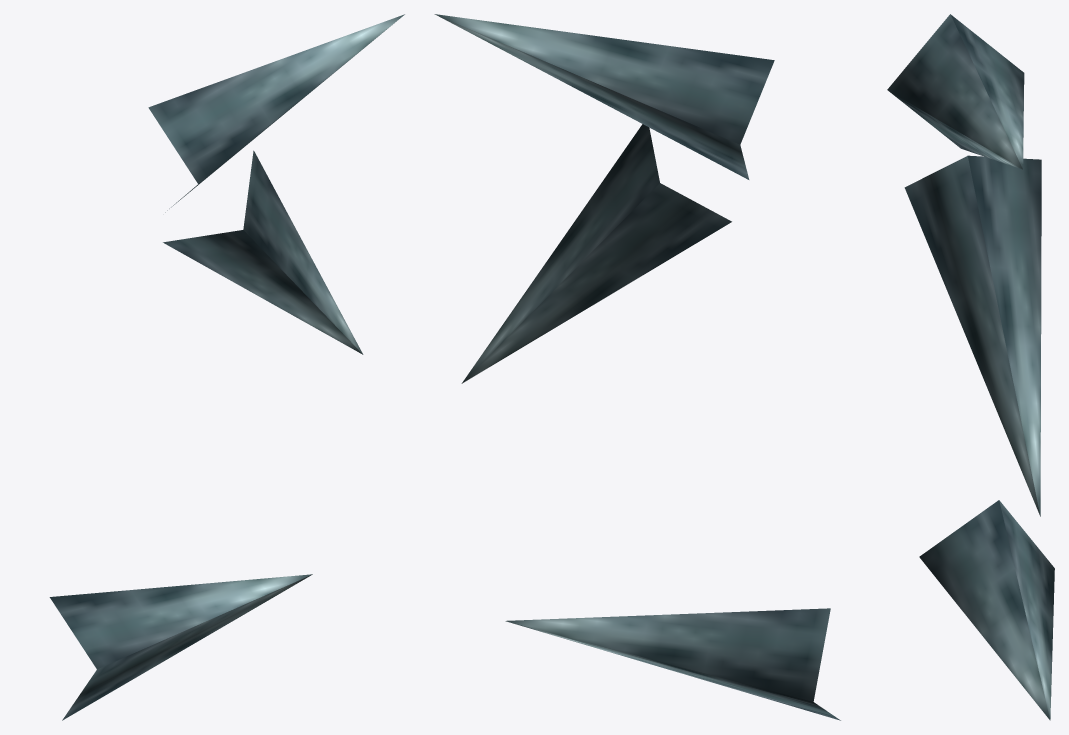
The picture shows the model from 3 angles, left to right: view 1: azimuth 30°, elevation 25°; view 2: azimuth 150°, elevation 25°; view 3: azimuth 270°, elevation 25°; orthographic projection. The views are drawn at different scales.
Parts seen in each view (by area): view 1: model_object48; view 2: model_object48; view 3: model_object48.
Part boxes in pixels (x1,y1,x2,y2): model_object48: [49, 14, 404, 720]; model_object48: [434, 14, 840, 720]; model_object48: [887, 14, 1054, 720].
Bounding box in the file's own units: 0.9339 × 1.43 × 0.334.
1 material, 1 textured.
